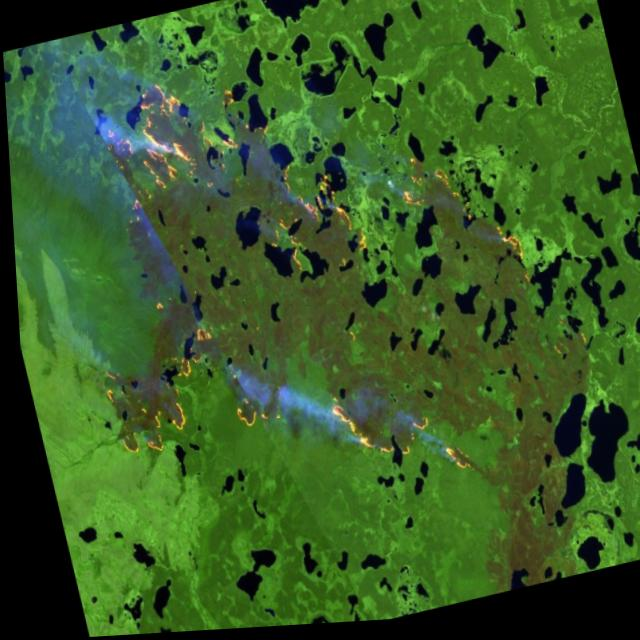fire: (83, 275, 473, 559), (89, 41, 385, 324), (383, 145, 468, 240), (478, 215, 537, 292)
